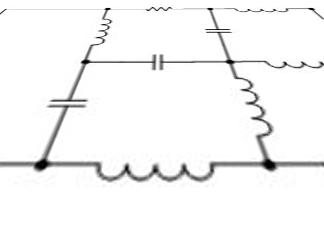inductor: (83, 155, 222, 192), (226, 71, 279, 138), (72, 12, 117, 49), (258, 51, 323, 69), (228, 2, 298, 17)
